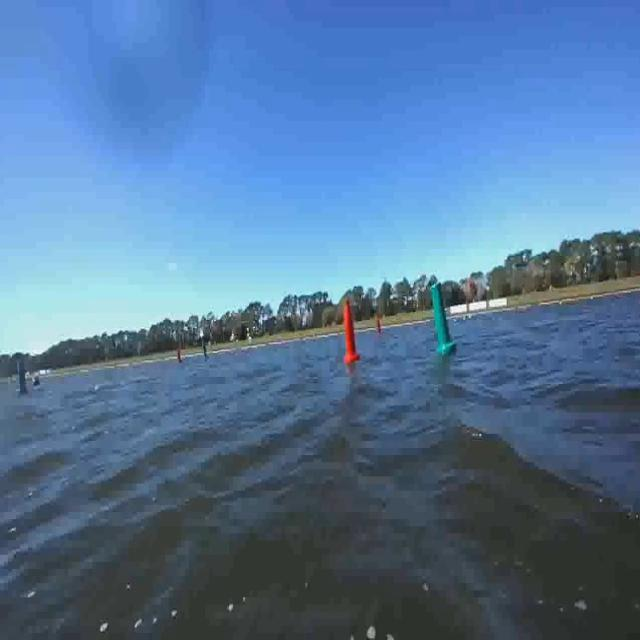green-column-buoy: (429, 282, 456, 354), (15, 356, 32, 398), (202, 339, 210, 360)
red-column-buoy: (341, 297, 360, 362), (376, 312, 384, 336), (176, 343, 184, 364)
